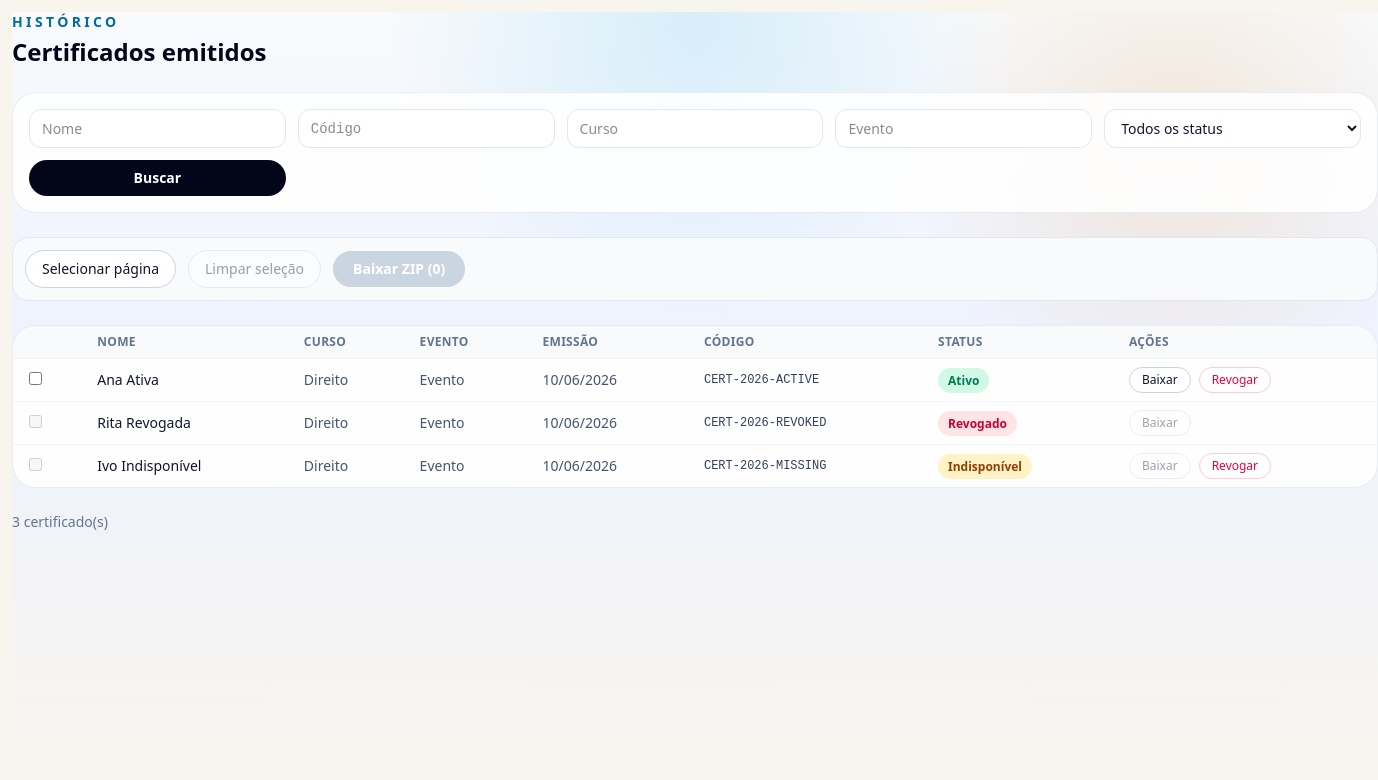
Test: seleciona apenas disponíveis e informa download ZIP parcial
Expected: the text "Ana Ativa" is shown, left=81, top=358, right=288, bottom=402
Expected: the checkbox named "Rita Revogada" is disabled, left=29, top=415, right=42, bottom=428
What coordinates should you click on to do the following:
click the button "Selecionar página"
I would click on:
 (100, 269)
Its box is left=25, top=250, right=176, bottom=288.
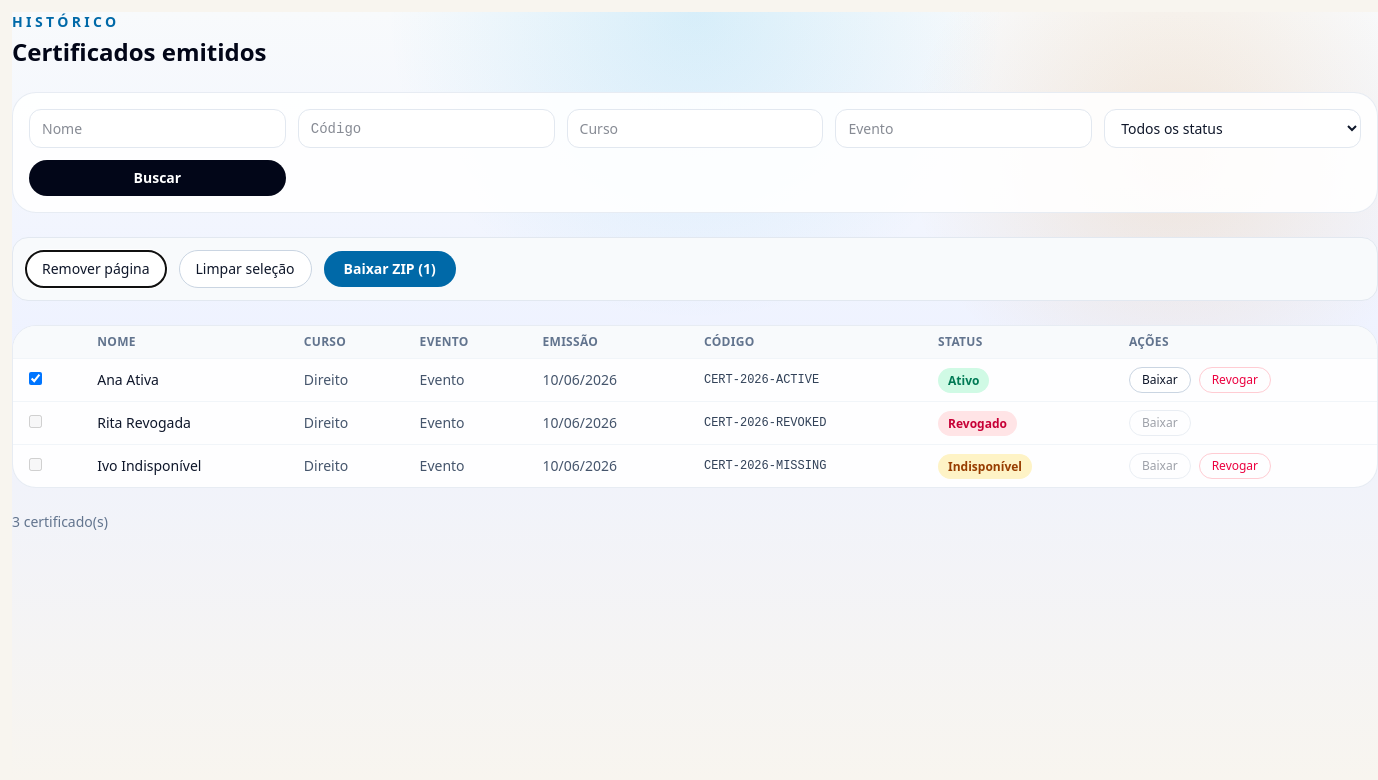
What coordinates should you click on to do the following:
click the button "Baixar ZIP (1)"
I would click on:
 (390, 269)
Its box is left=324, top=251, right=456, bottom=287.
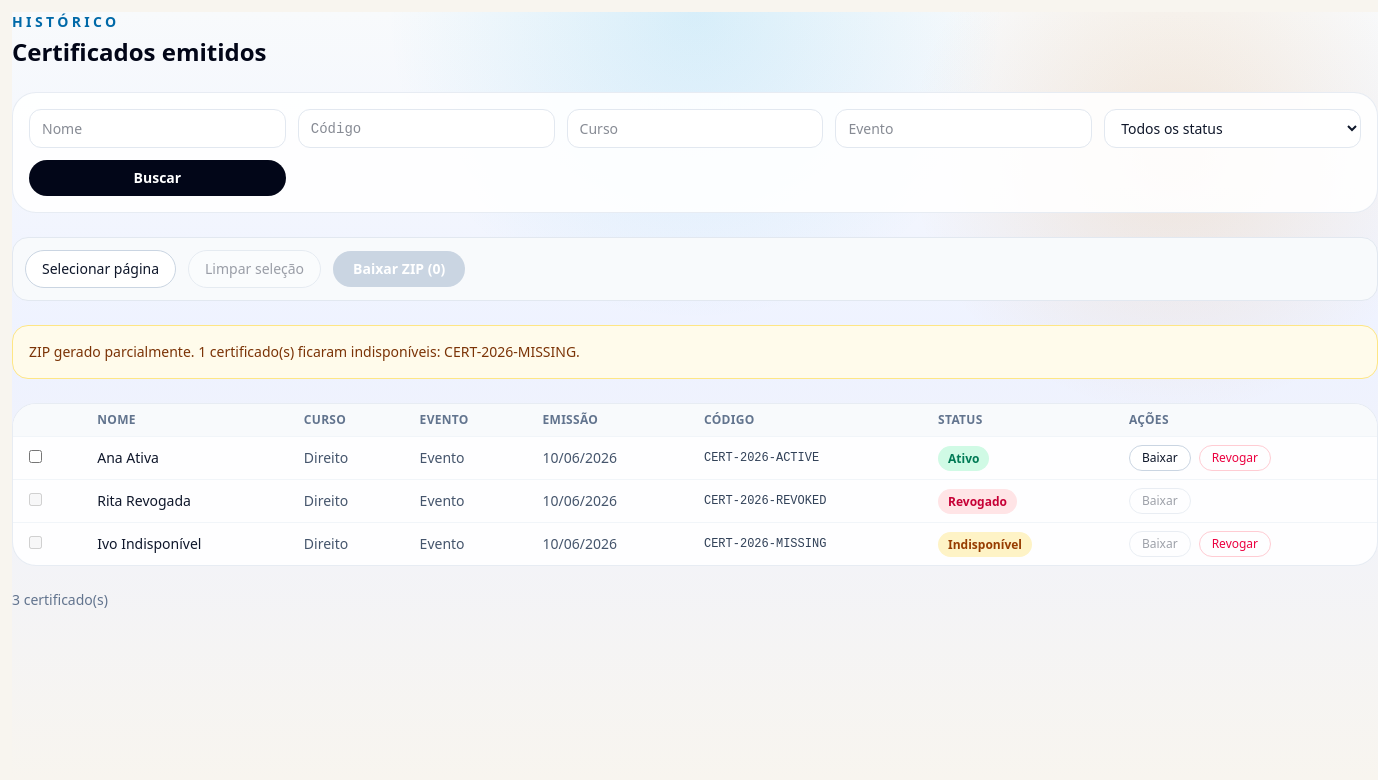
Expected: the text "ZIP gerado parcialmente" is shown, left=29, top=342, right=580, bottom=361
